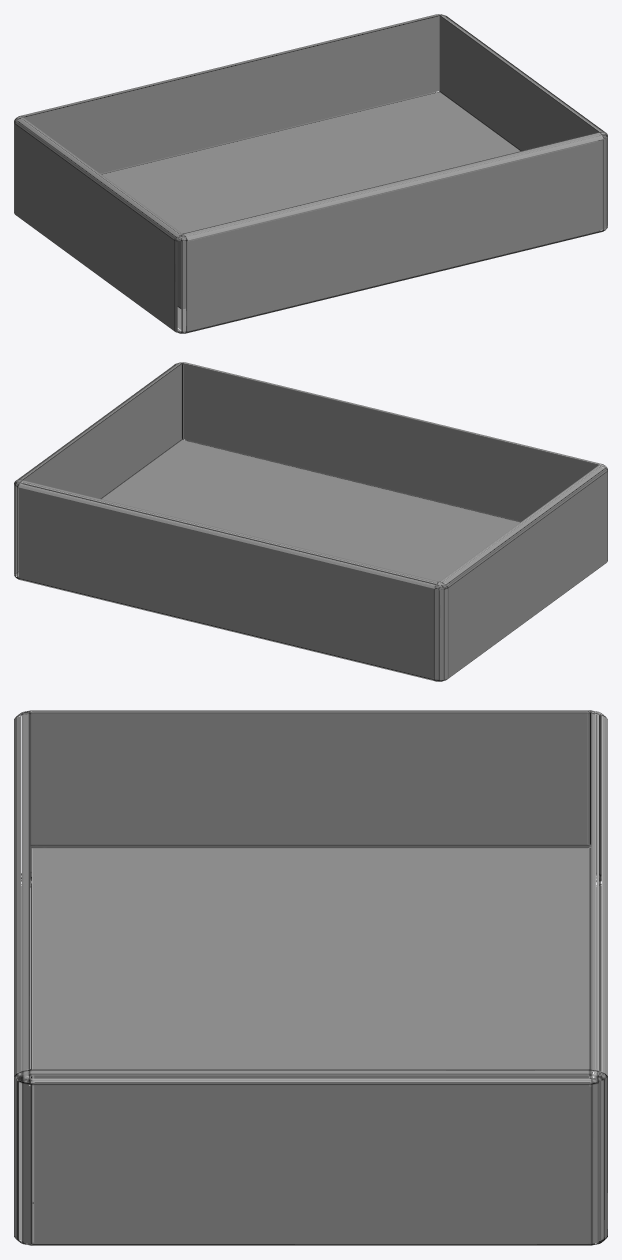
Rendered from tupper.fbx.
3 renders of one model, top to bottom at view 1: azimuth 30°, elevation 25°; view 2: azimuth 150°, elevation 25°; view 3: azimuth 270°, elevation 25°, orthographic. The views are drawn at different scales.
Visible parts, largest first — view 1: Cube; view 2: Cube; view 3: Cube.
Boxes of the visible parts, bbox=[...] form: Cube: bbox=[14, 14, 607, 333]; Cube: bbox=[14, 362, 607, 681]; Cube: bbox=[14, 710, 607, 1245].
Size of the model in its own units: 200 by 43.63 by 135.
